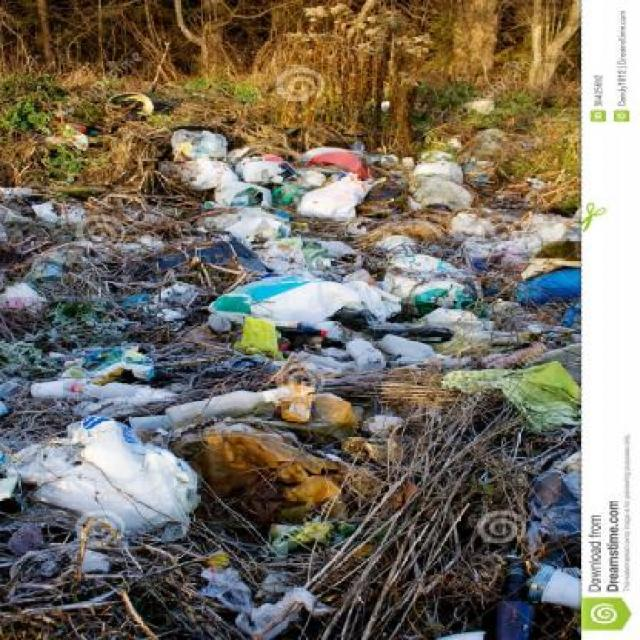garbage: (5, 365, 576, 640), (0, 98, 574, 354)
